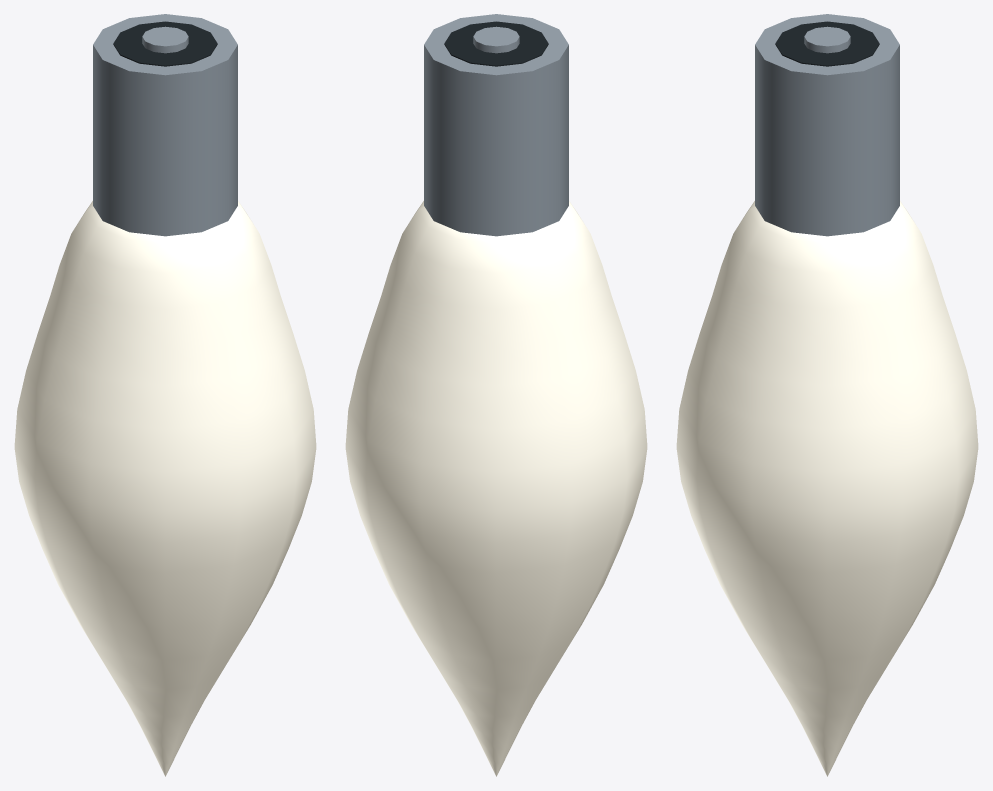
Rendered from source.glb.
The picture shows the model from 3 angles, left to right: view 1: azimuth 30°, elevation 25°; view 2: azimuth 150°, elevation 25°; view 3: azimuth 270°, elevation 25°; orthographic projection.
Parts seen in each view (by area): view 1: Emitters, 机加工金属, 密封及绝缘件; view 2: Emitters, 机加工金属, 密封及绝缘件; view 3: Emitters, 机加工金属, 密封及绝缘件.
Part boxes in pixels (x1,y1,x2,y2): Emitters: (14, 201, 316, 776); 机加工金属: (93, 14, 237, 236); 密封及绝缘件: (113, 21, 217, 66); Emitters: (345, 201, 647, 776); 机加工金属: (424, 14, 568, 236); 密封及绝缘件: (444, 21, 548, 66); Emitters: (676, 201, 978, 776); 机加工金属: (755, 14, 899, 236); 密封及绝缘件: (775, 21, 879, 66).
Bounding box in the file's own units: 0.037 × 0.1001 × 0.037.
